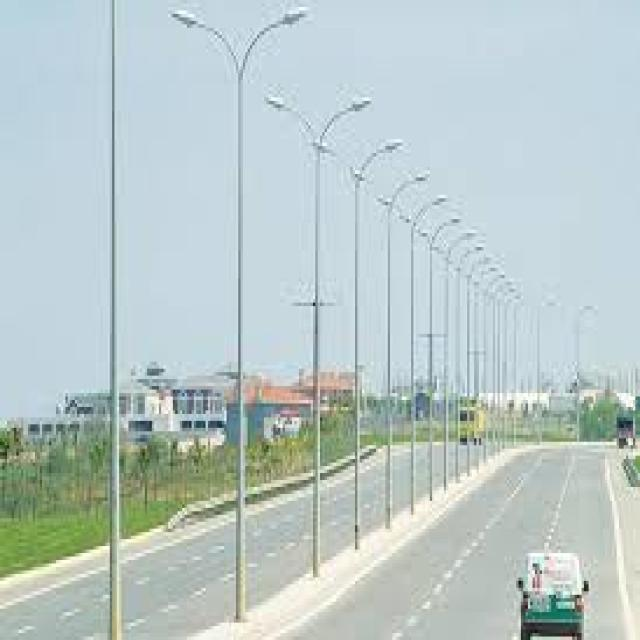Street Light: (170, 4, 306, 622), (264, 94, 371, 577), (313, 136, 399, 553), (336, 167, 430, 532), (372, 192, 448, 518), (395, 212, 460, 501)
